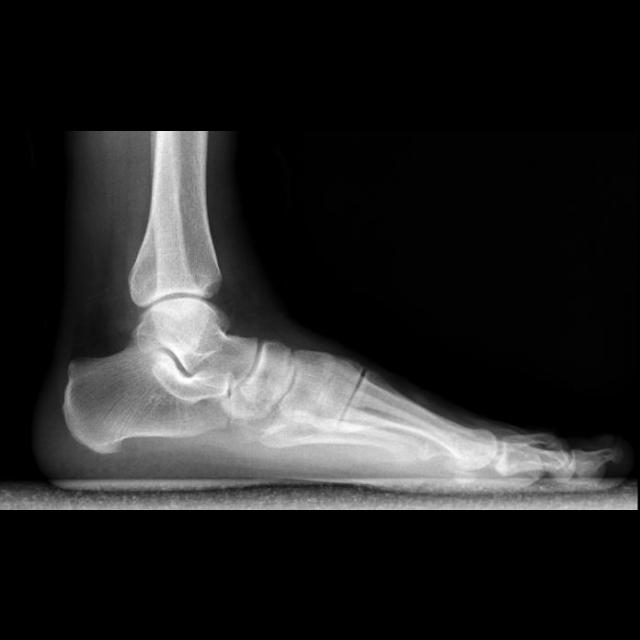a: (62, 344, 231, 454)
b: (221, 341, 295, 420)
c: (340, 376, 498, 467)
